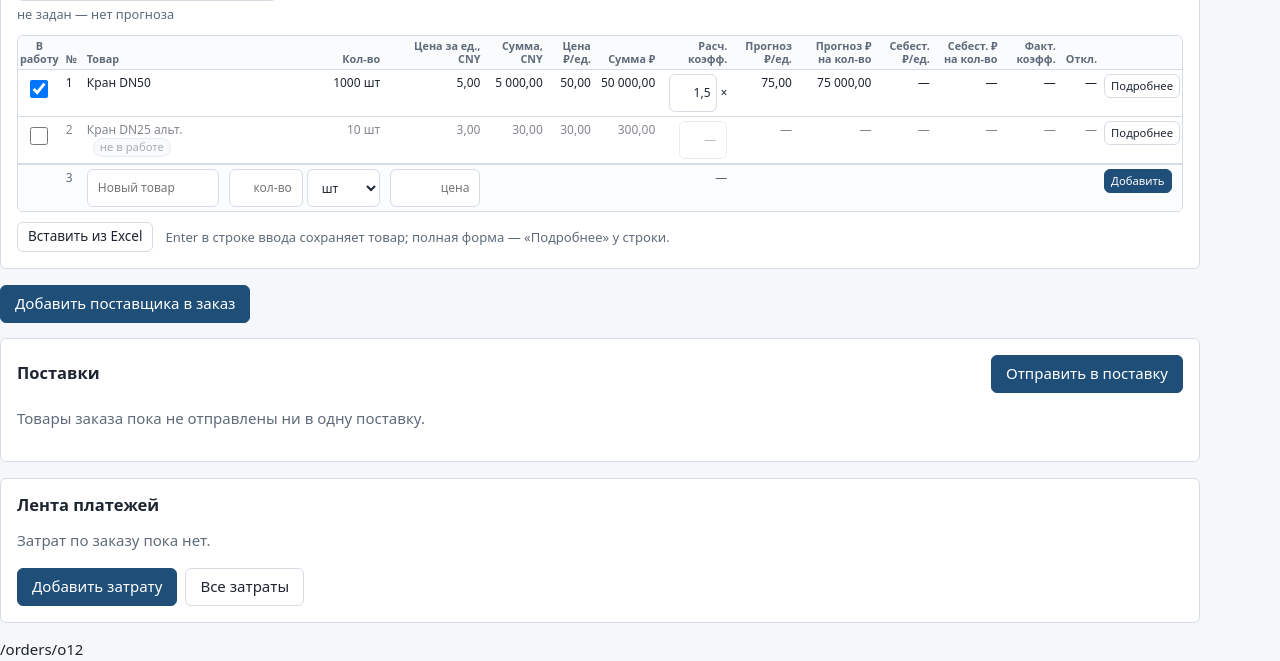
Test case: поставщики в заказе › не выбран поставщик — ошибка у поля, ничего не сохранено
The image size is (1280, 661).
(page scrolled)
Click the button "Добавить поставщика в заказ".
click(125, 304)  # box [0,285,250,323]
(page scrolled)
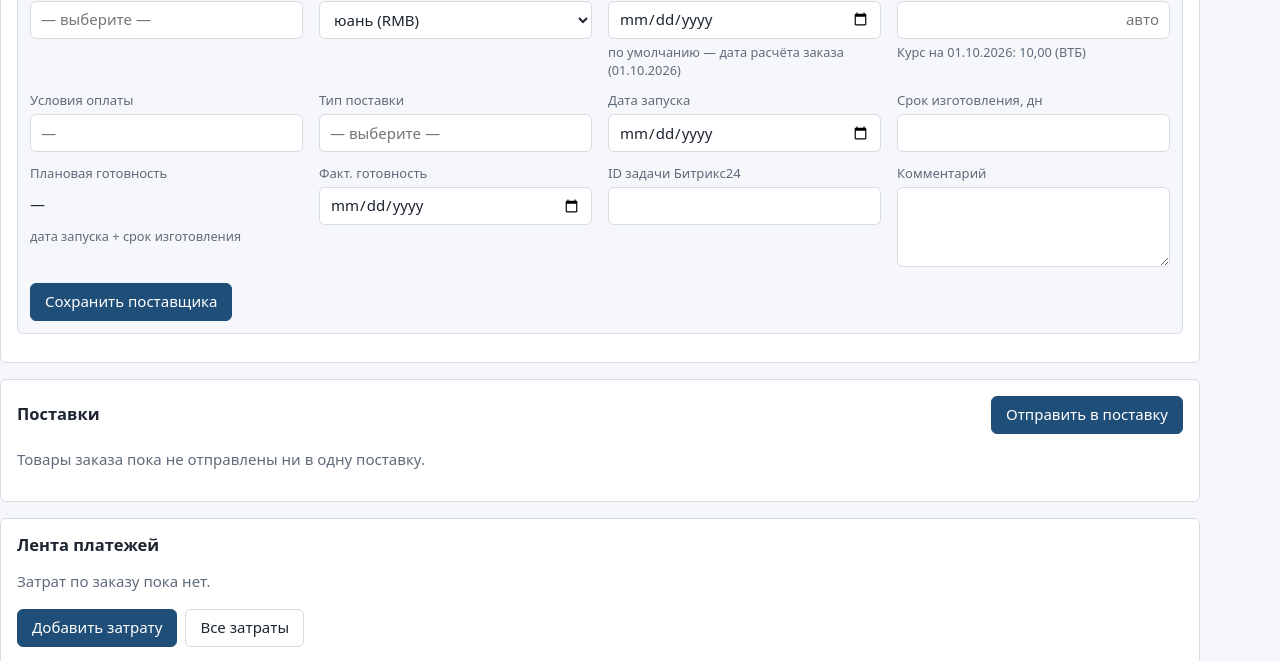
Click the button "Сохранить поставщика".
click(131, 302)  # box [30,282,232,320]
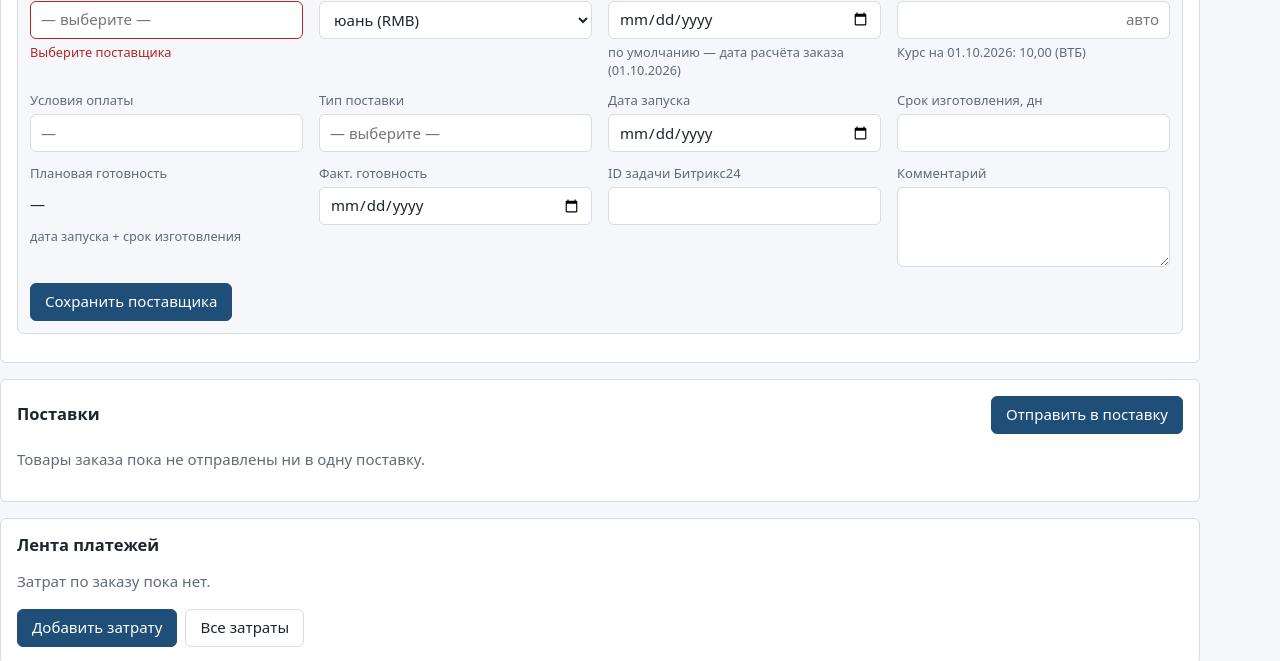
Now the text "Выберите поставщика" is shown, box [30,42,172,60]
